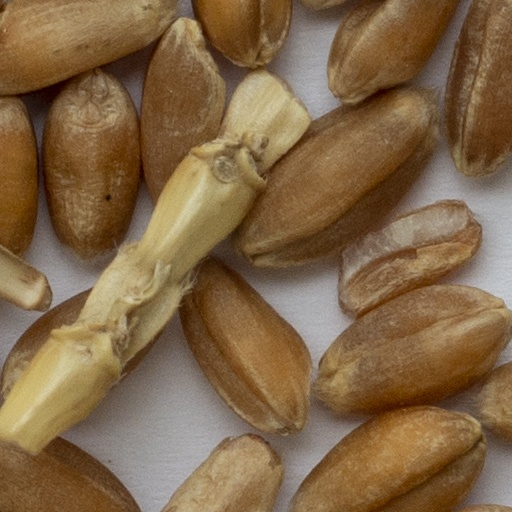Peel-poly: (0, 67, 314, 459), (0, 240, 55, 314)
Wheat-grain-damaged-poly: (337, 199, 482, 320)
Wheat-grain-poly: (182, 267, 316, 440), (154, 430, 283, 511)
